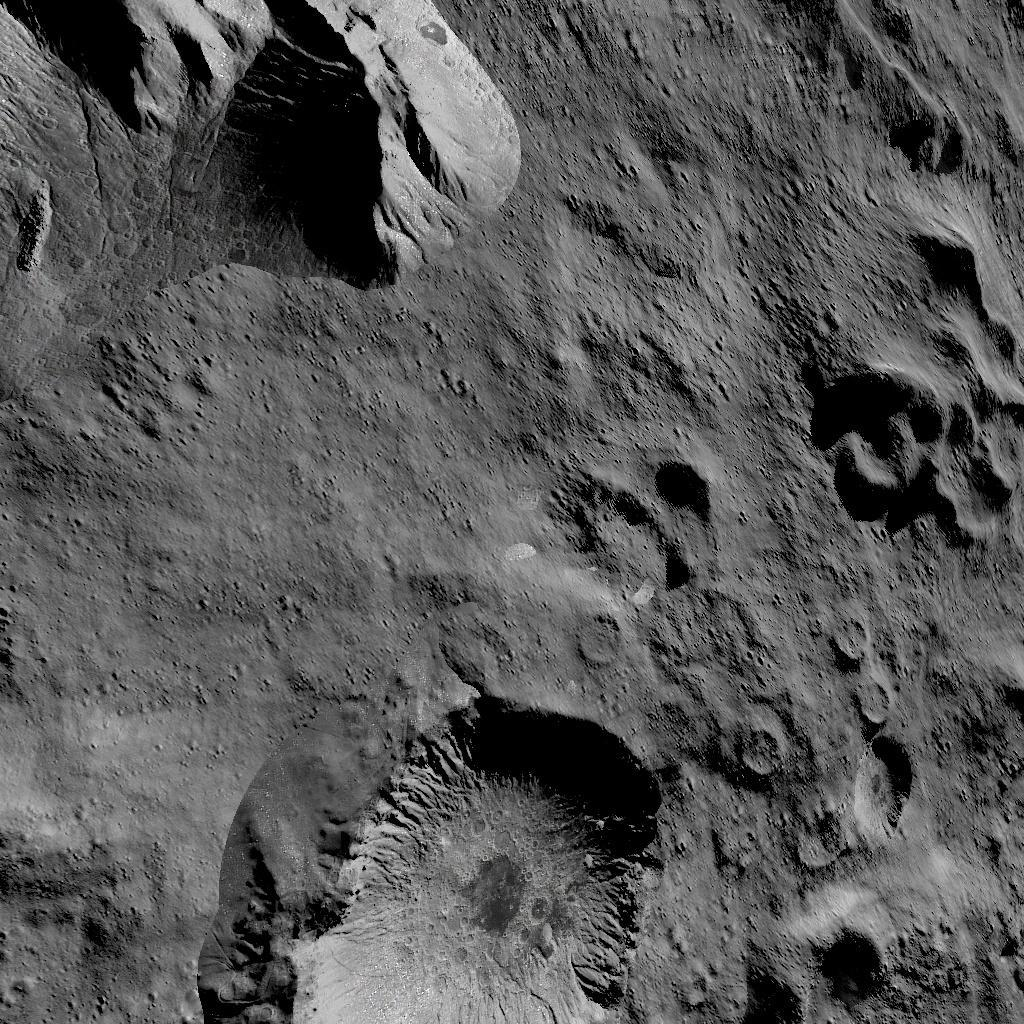Boulders: (3, 0, 525, 366)
Crater: (185, 691, 676, 1024), (783, 356, 1024, 540), (549, 450, 706, 602), (811, 614, 909, 841), (735, 896, 884, 1024), (939, 670, 1024, 790), (722, 722, 780, 784), (568, 612, 626, 668), (973, 0, 1024, 41)
Plan surface: (3, 374, 540, 680), (553, 0, 770, 436), (3, 692, 171, 1024)
